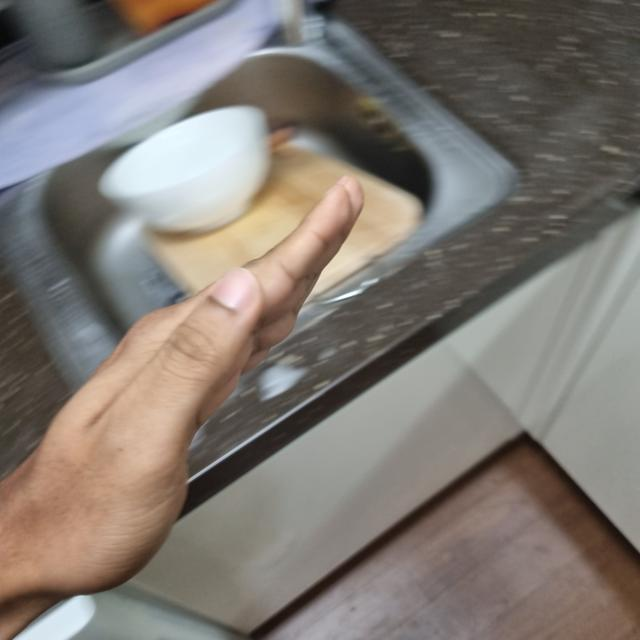Paper: (2, 183, 358, 594)
